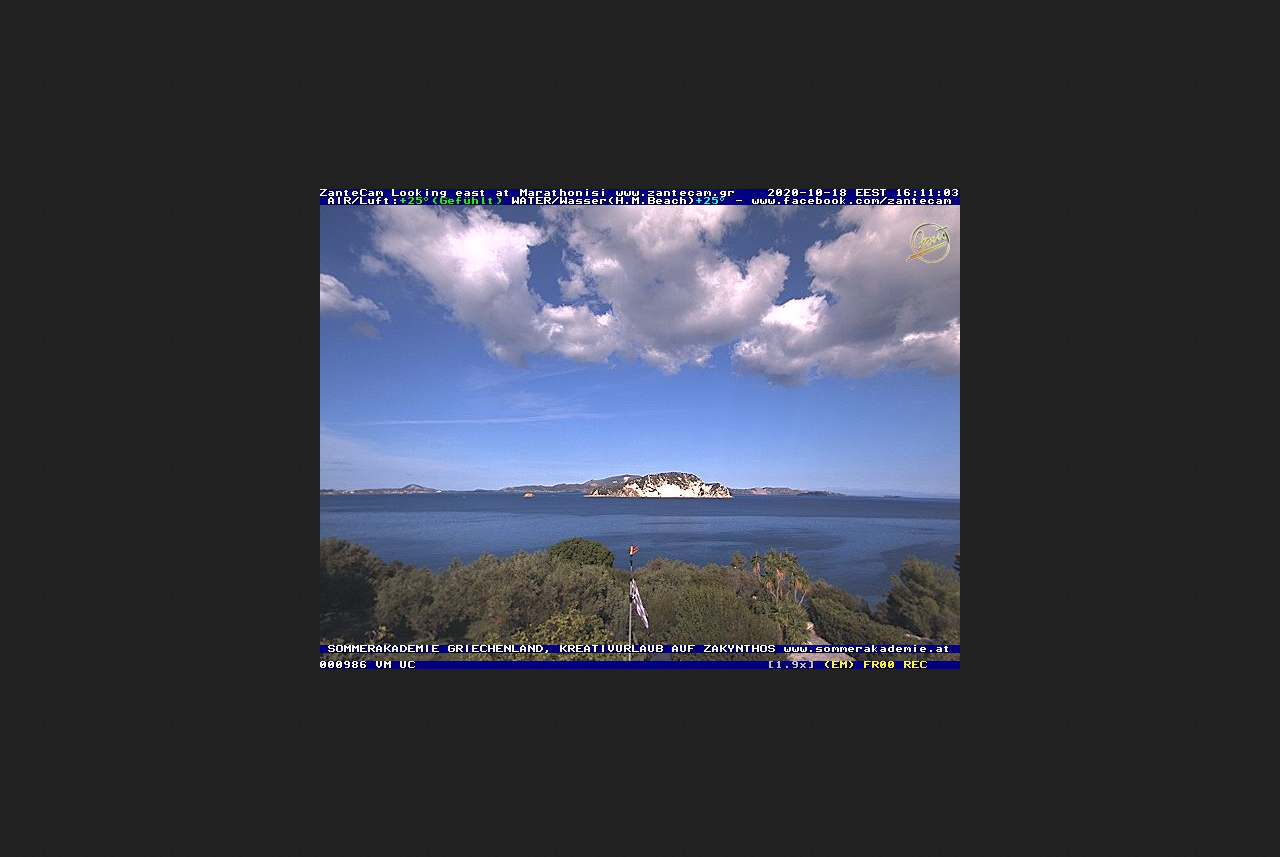no: (620, 559, 656, 630)
